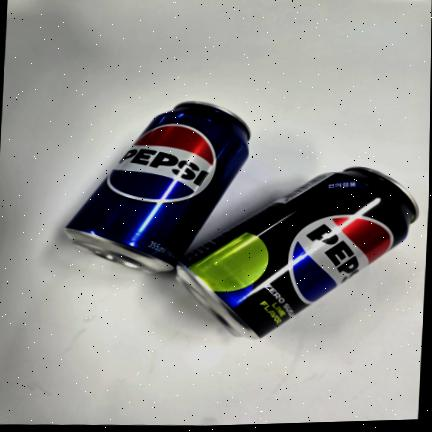can_pepsi: (66, 102, 249, 273)
can_pepsi_zero: (176, 167, 418, 339)
